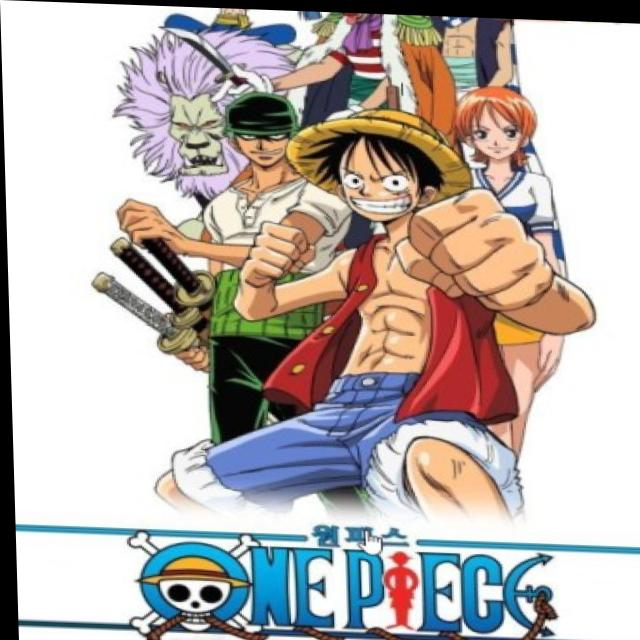Luffy: (296, 106, 453, 222)
Nami: (439, 80, 555, 167)
Zoro: (222, 92, 307, 181)
